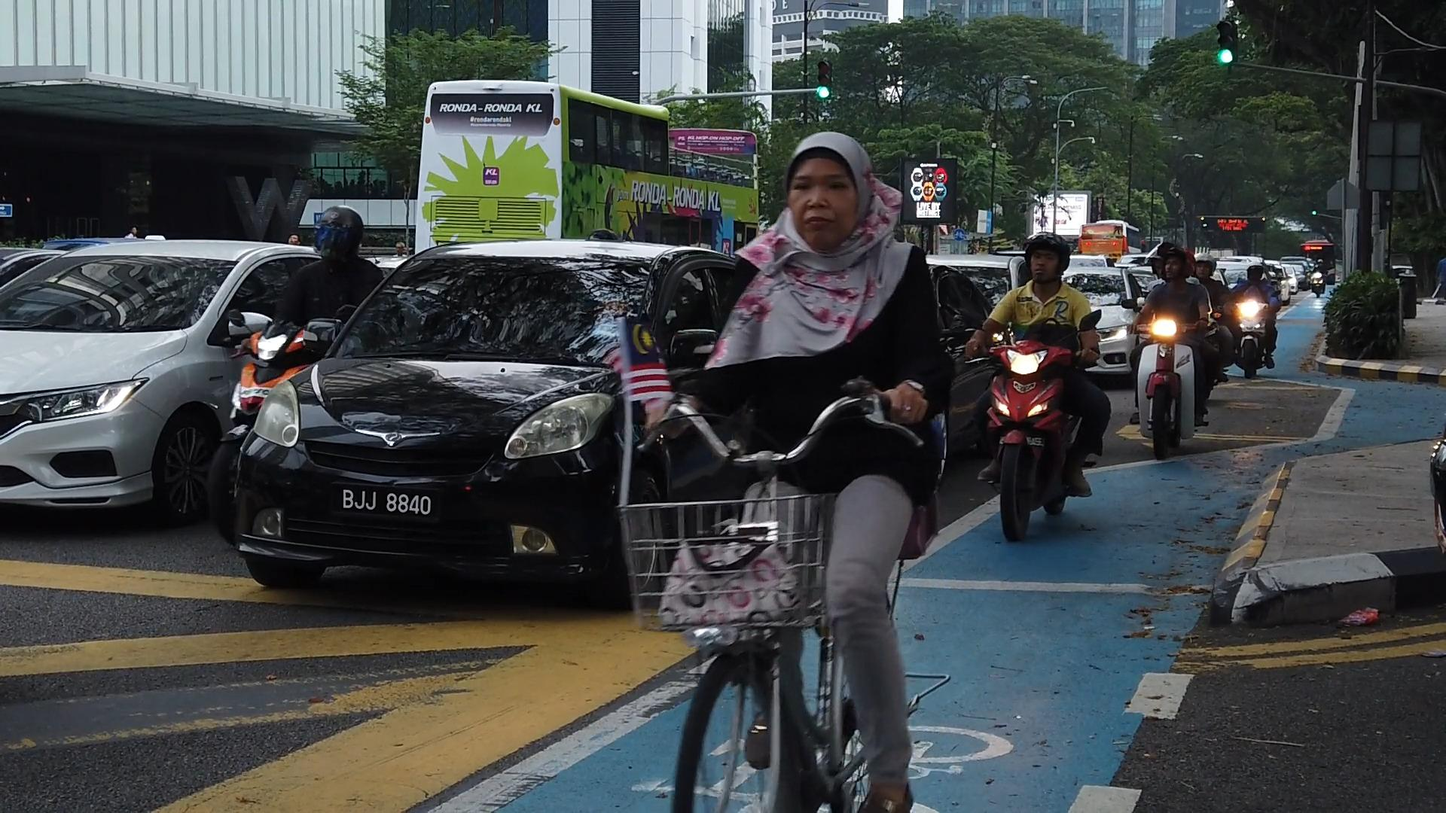bicyclist: (613, 130, 955, 813)
driver: (206, 206, 384, 546), (956, 232, 1111, 543), (1121, 240, 1220, 460)
helmet: (316, 206, 363, 261), (1023, 232, 1070, 284), (1161, 246, 1196, 280), (1192, 253, 1216, 279)
no-helmet: (785, 130, 872, 251)
